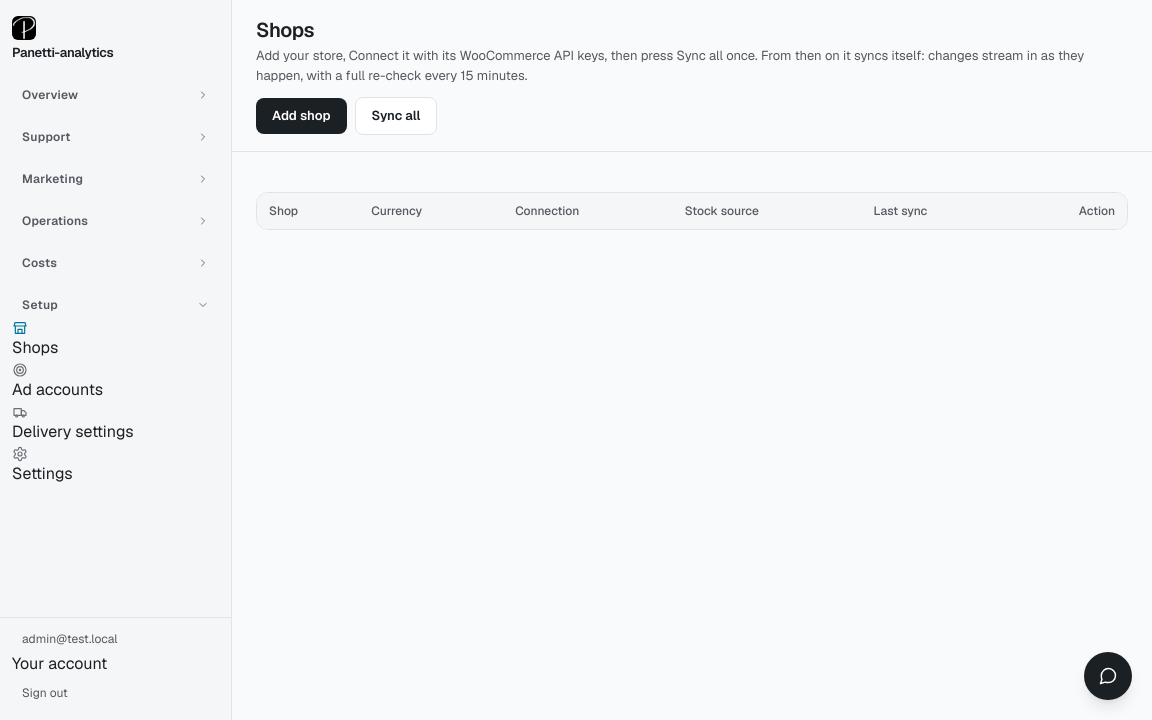
Test: ShopsClient › offers an Add shop button and validates before posting
Click the button "Add shop": (301,116) [256,98,346,134]
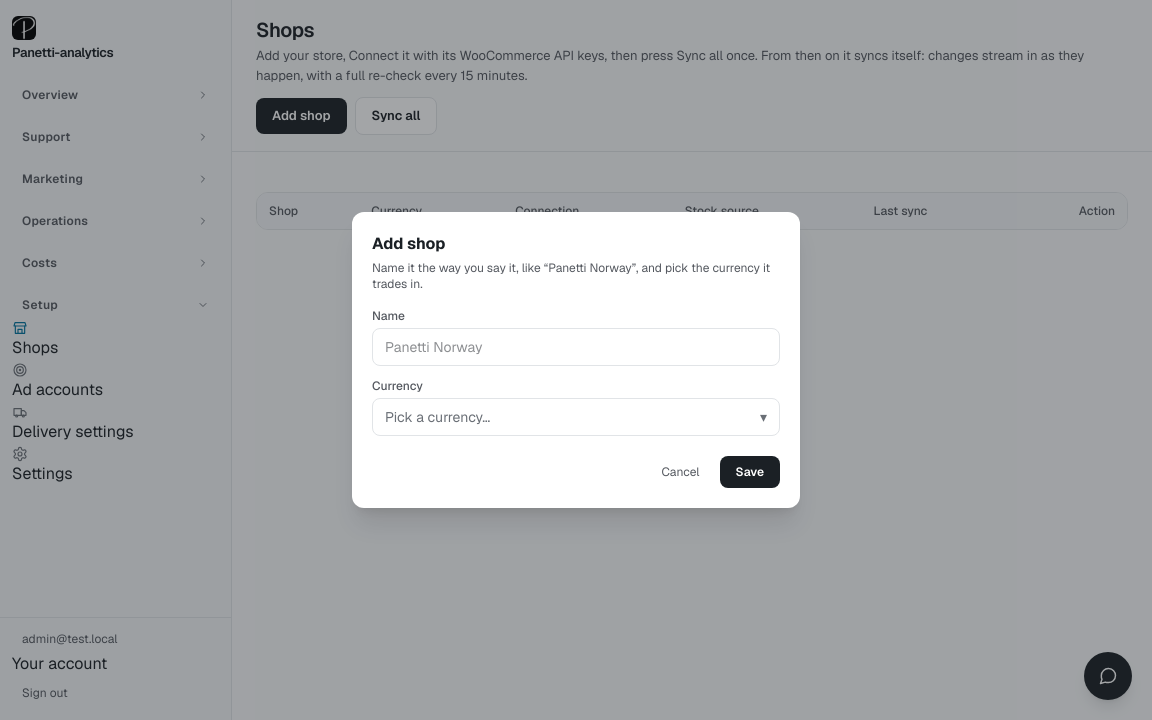
Click the button "Save": (750,472) [720,456,780,488]
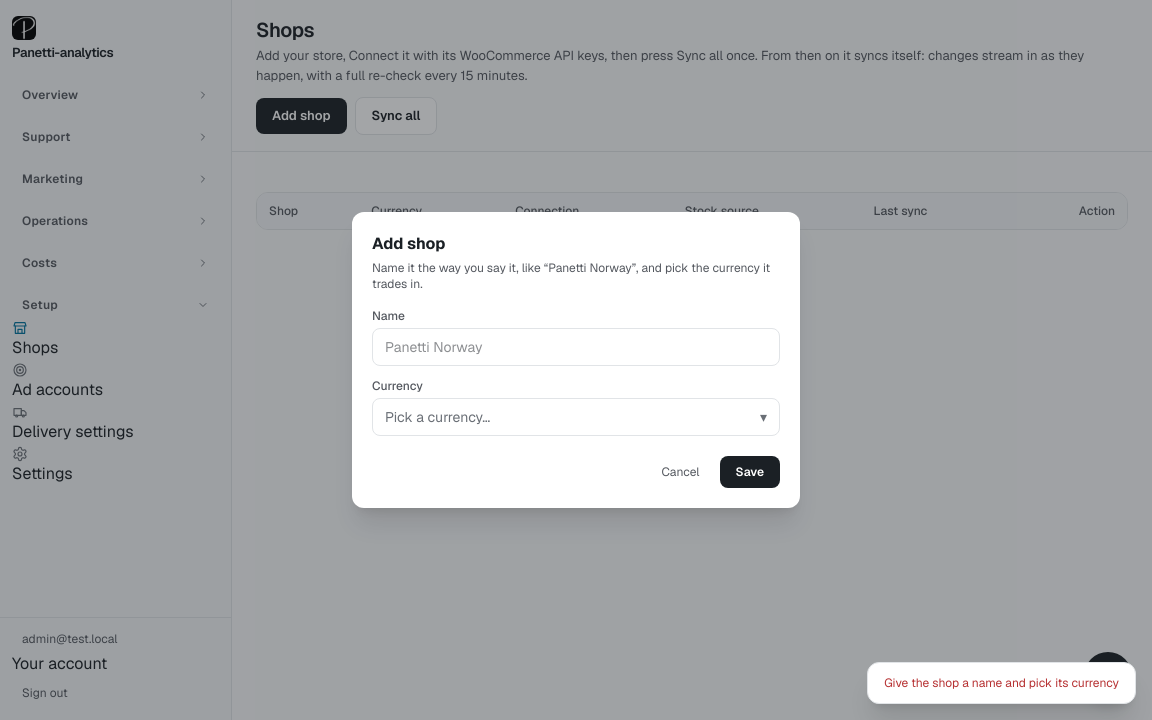
Result: the button "Give the shop a name and pick its currency" is shown at [867,662,1136,704]
